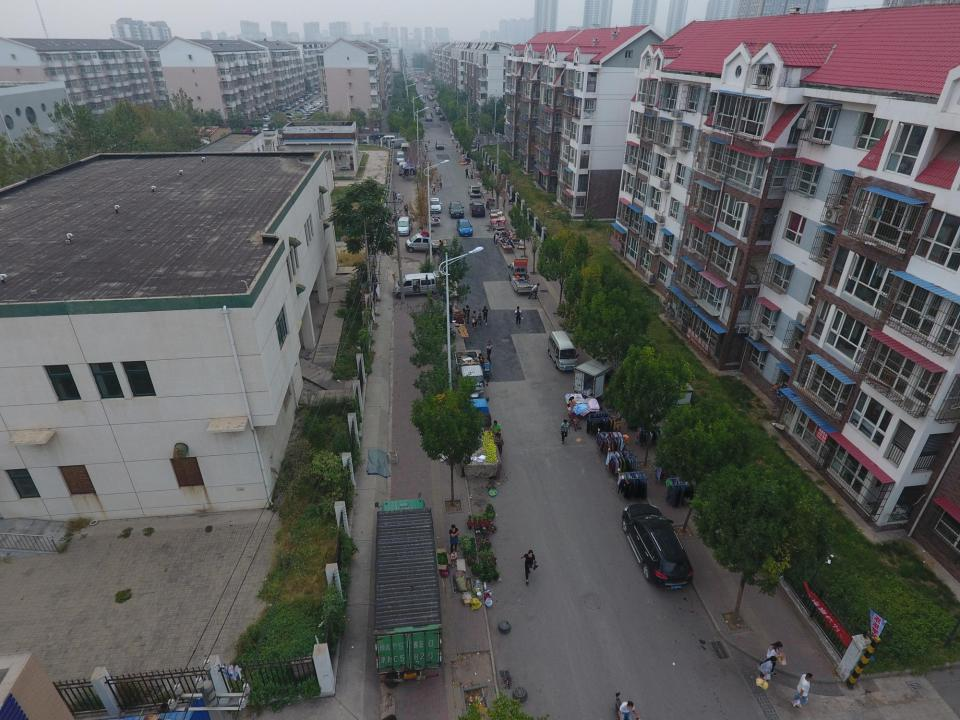car: (622, 503, 694, 589), (395, 216, 412, 236), (456, 219, 472, 237), (448, 201, 464, 218), (468, 202, 486, 217), (428, 197, 442, 214), (467, 185, 481, 198), (351, 136, 369, 144), (368, 132, 385, 140), (240, 126, 252, 134), (250, 126, 262, 134), (268, 110, 280, 116), (436, 141, 444, 150), (263, 115, 271, 122), (266, 114, 275, 120), (279, 105, 286, 112), (426, 115, 433, 121), (305, 92, 313, 97), (440, 115, 446, 121), (313, 90, 318, 95)
truck: (373, 491, 442, 683), (456, 396, 502, 476), (573, 347, 633, 402), (454, 351, 489, 397), (405, 233, 448, 254), (507, 262, 534, 293), (488, 209, 506, 230)
van: (394, 270, 444, 299), (547, 330, 579, 371), (387, 138, 405, 150), (398, 161, 408, 176), (449, 128, 464, 138), (380, 136, 396, 144), (396, 151, 405, 165), (262, 124, 269, 134)
